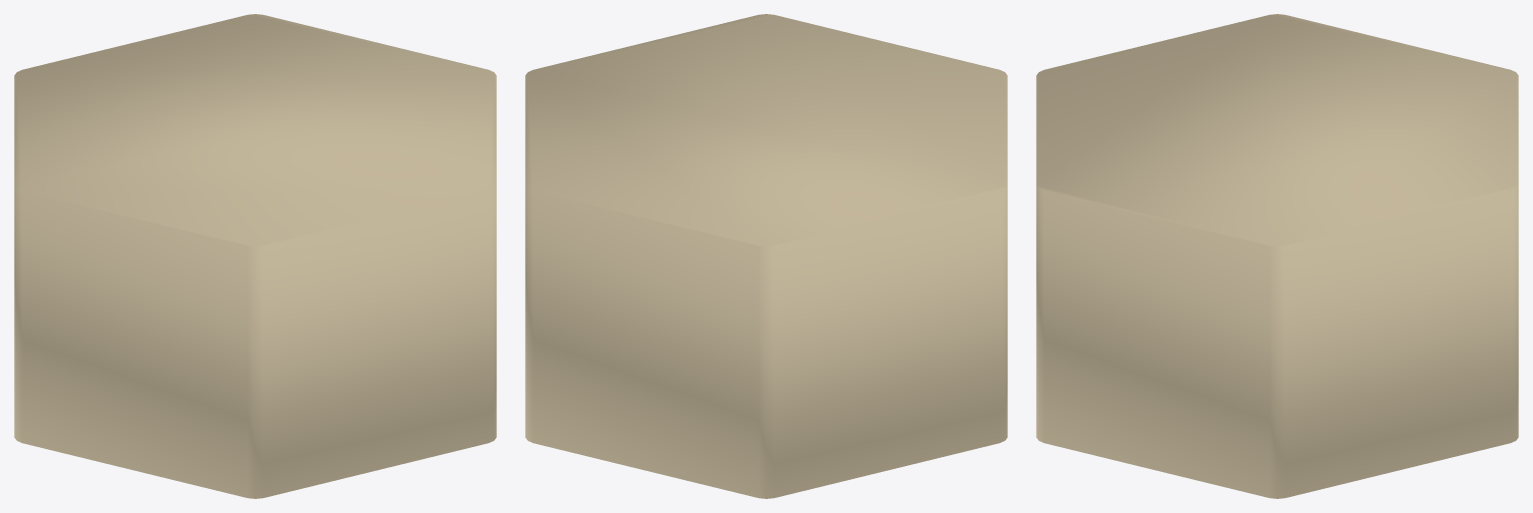
Rendered from sandstorminner.glb.
3 views of the same model, side by side, from view 1: azimuth 30°, elevation 25°; view 2: azimuth 150°, elevation 25°; view 3: azimuth 270°, elevation 25° (orthographic).
Parts seen in each view (by area): view 1: Circle.015; view 2: Circle.015; view 3: Circle.015.
Boxes of the visible parts, x1=… form: Circle.015: x1=14, y1=14, x2=496, y2=498; Circle.015: x1=525, y1=14, x2=1007, y2=498; Circle.015: x1=1036, y1=14, x2=1518, y2=498.
Bounding box in the file's own units: 5.19 × 2.62 × 4.54.
Materials: 1 (1 with a texture image).
